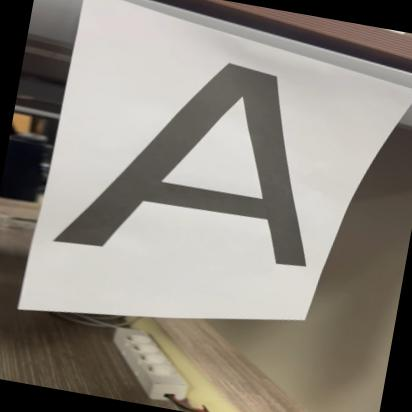seat: (43, 27, 340, 292)
